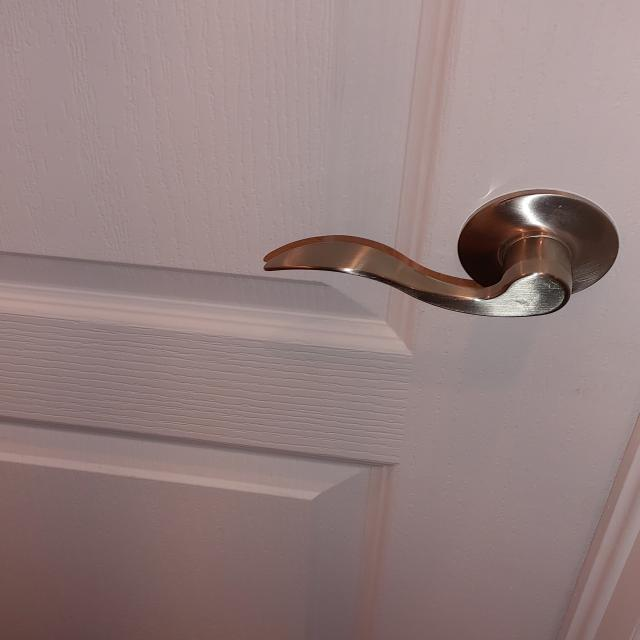door-handle: (263, 190, 618, 316)
